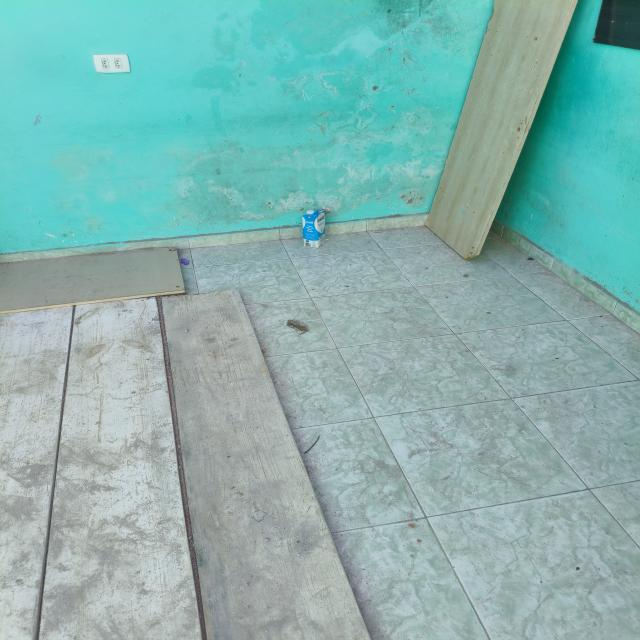Caixa de Leite: (302, 209, 326, 248)
